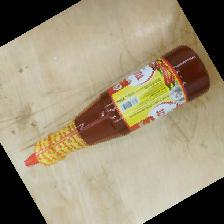Tuong: (23, 43, 210, 169)
